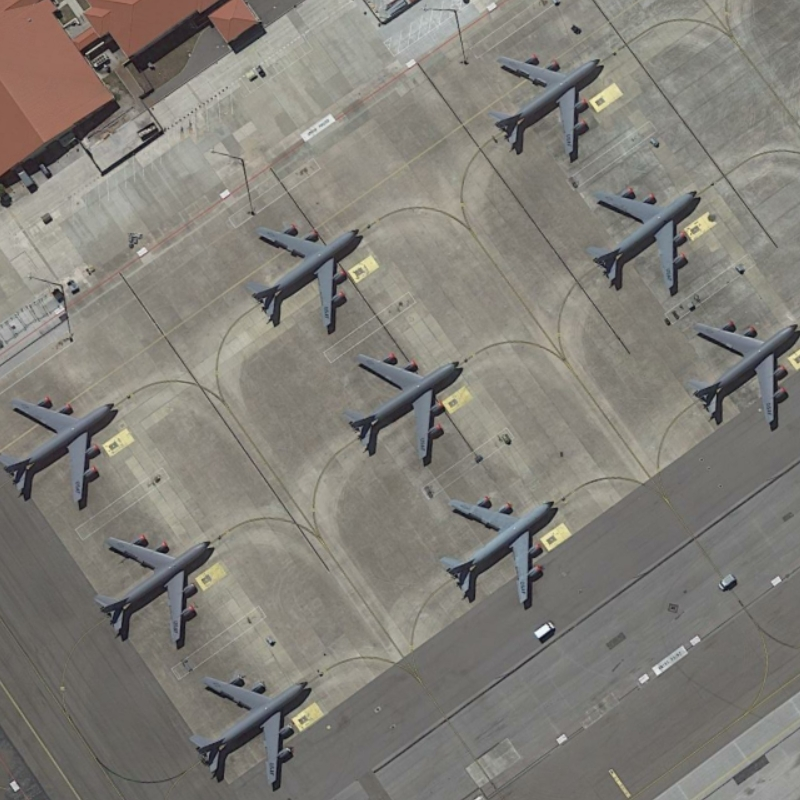A14: (186, 667, 315, 789), (93, 523, 216, 650), (436, 490, 565, 611), (343, 344, 467, 468), (482, 47, 610, 163), (1, 386, 121, 509), (241, 217, 363, 336), (586, 182, 705, 300), (689, 315, 800, 433)
